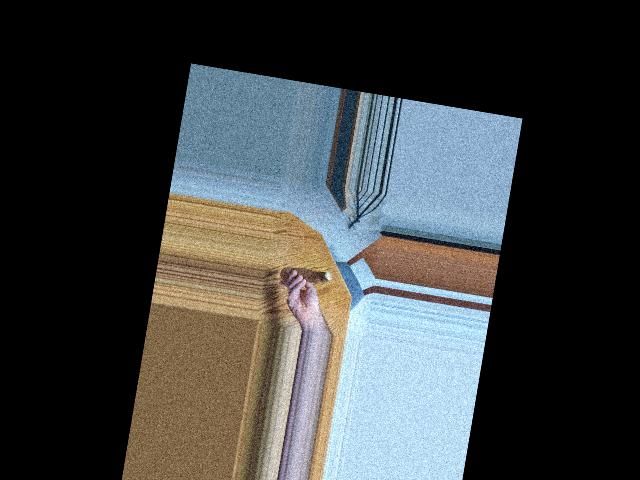sweet_potato: (288, 266, 333, 284)
